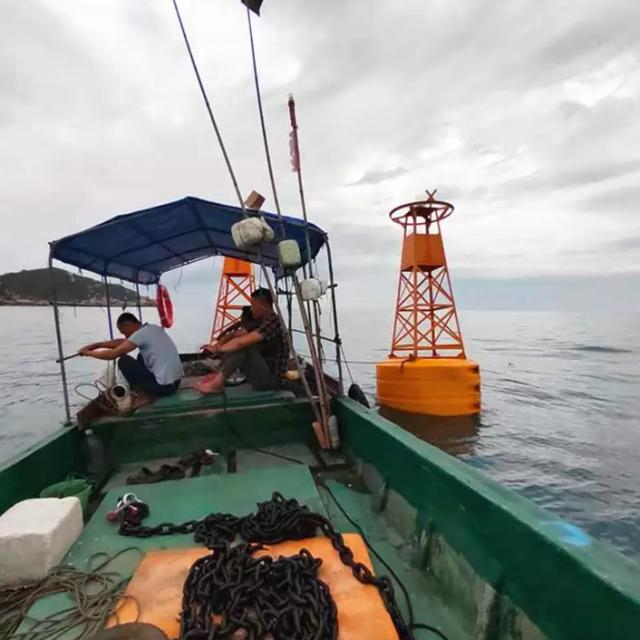buoy: (366, 186, 482, 419)
